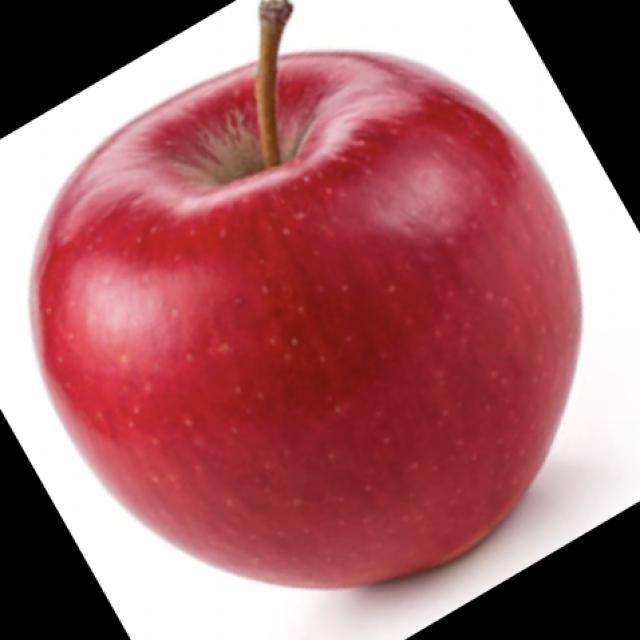Fresh Apple: (25, 41, 588, 590)
